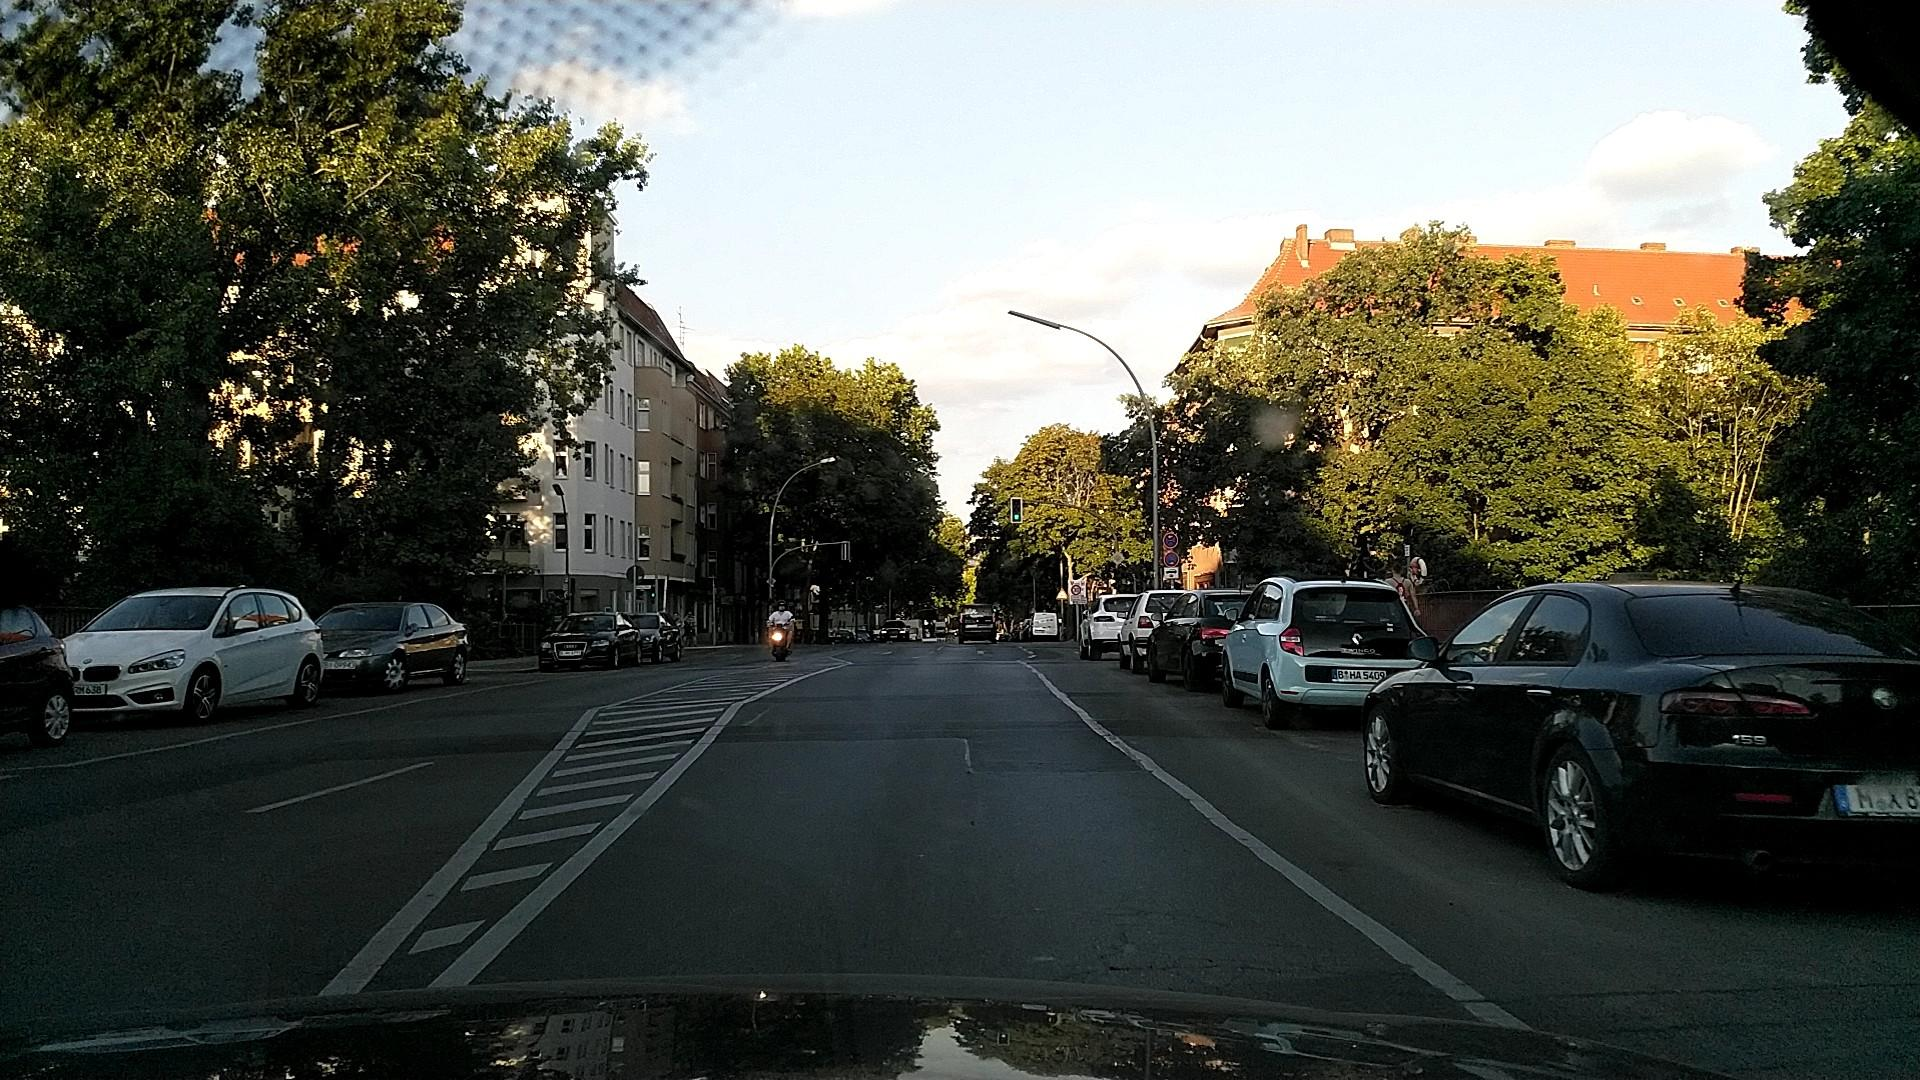Human face: (777, 600, 786, 612)
Vehicle registration plate: (1830, 784, 1916, 815), (1329, 667, 1387, 685), (71, 685, 105, 697), (322, 660, 356, 669), (559, 650, 582, 656)
